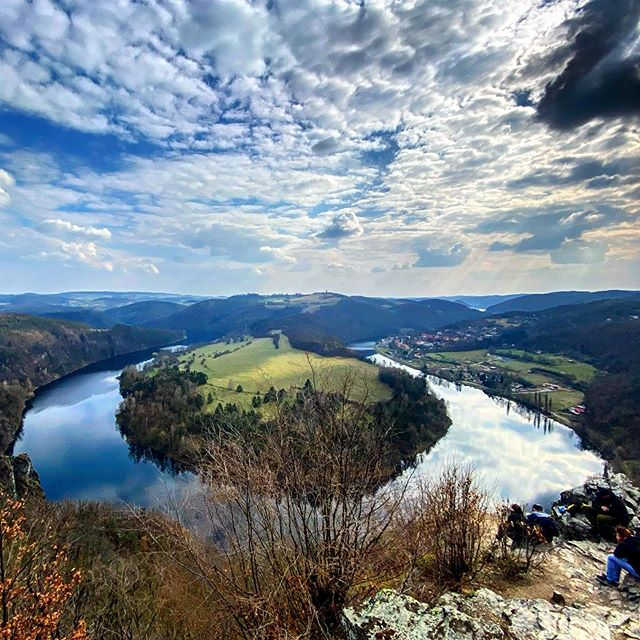river: (2, 329, 616, 585)
sky: (1, 1, 640, 289)
tree: (185, 407, 416, 637), (1, 512, 188, 640)
vegetation: (132, 343, 429, 491)
